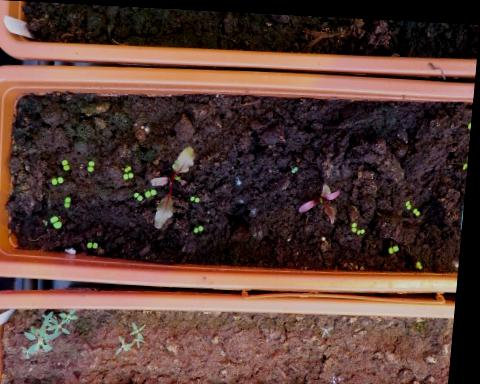crop: (297, 177, 345, 222)
weed: (325, 319, 341, 335), (50, 213, 67, 227), (50, 174, 69, 184), (61, 156, 74, 170), (146, 184, 161, 196), (389, 238, 404, 250), (192, 220, 208, 231), (87, 157, 98, 171), (87, 238, 104, 247), (66, 193, 76, 208), (134, 188, 146, 200), (191, 191, 205, 200), (123, 169, 137, 178), (405, 193, 416, 204), (414, 200, 424, 211), (123, 162, 134, 171), (419, 254, 427, 265)
